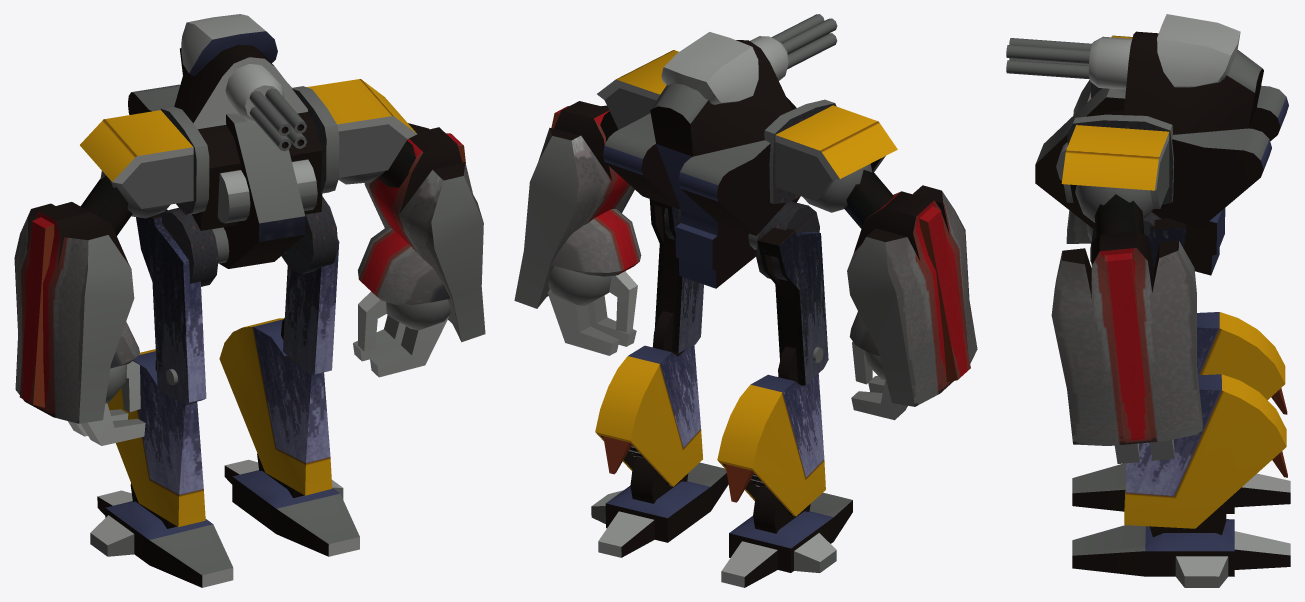
The model's file is npc_sec2bot_000016.obj.
3 renders of one model, left to right at view 1: azimuth 30°, elevation 25°; view 2: azimuth 150°, elevation 25°; view 3: azimuth 270°, elevation 25°, orthographic. The views are drawn at different scales.
Visible parts, largest first — view 1: npc_sec2bot_npc_sec2bot_meshdata; view 2: npc_sec2bot_npc_sec2bot_meshdata; view 3: npc_sec2bot_npc_sec2bot_meshdata.
Part boxes in pixels (x1,y1,x2,y2): npc_sec2bot_npc_sec2bot_meshdata: (14,14,485,587); npc_sec2bot_npc_sec2bot_meshdata: (514,14,977,587); npc_sec2bot_npc_sec2bot_meshdata: (1006,14,1290,587).
Bounding box in the file's own units: 2.3 × 2.46 × 1.25.
